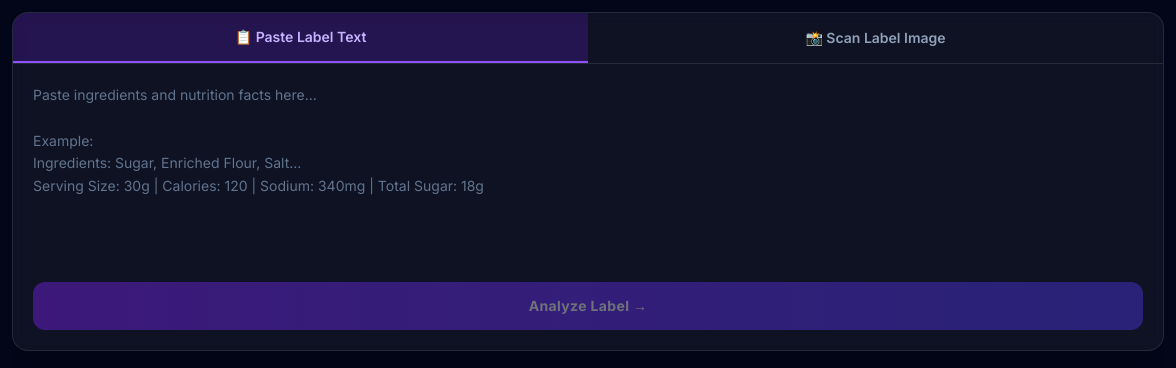
it: LabelInput › switches to image tab on click
Click the button "📸 Scan Label Image" at (876, 38), box [588,13,1163,63]
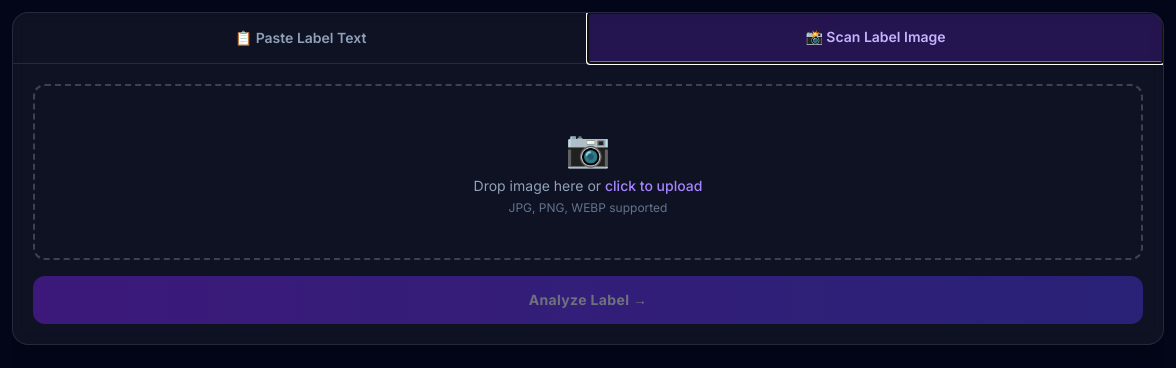
Check: the text "Drop image here or click to upload" is shown, box [474,176,702,196]
